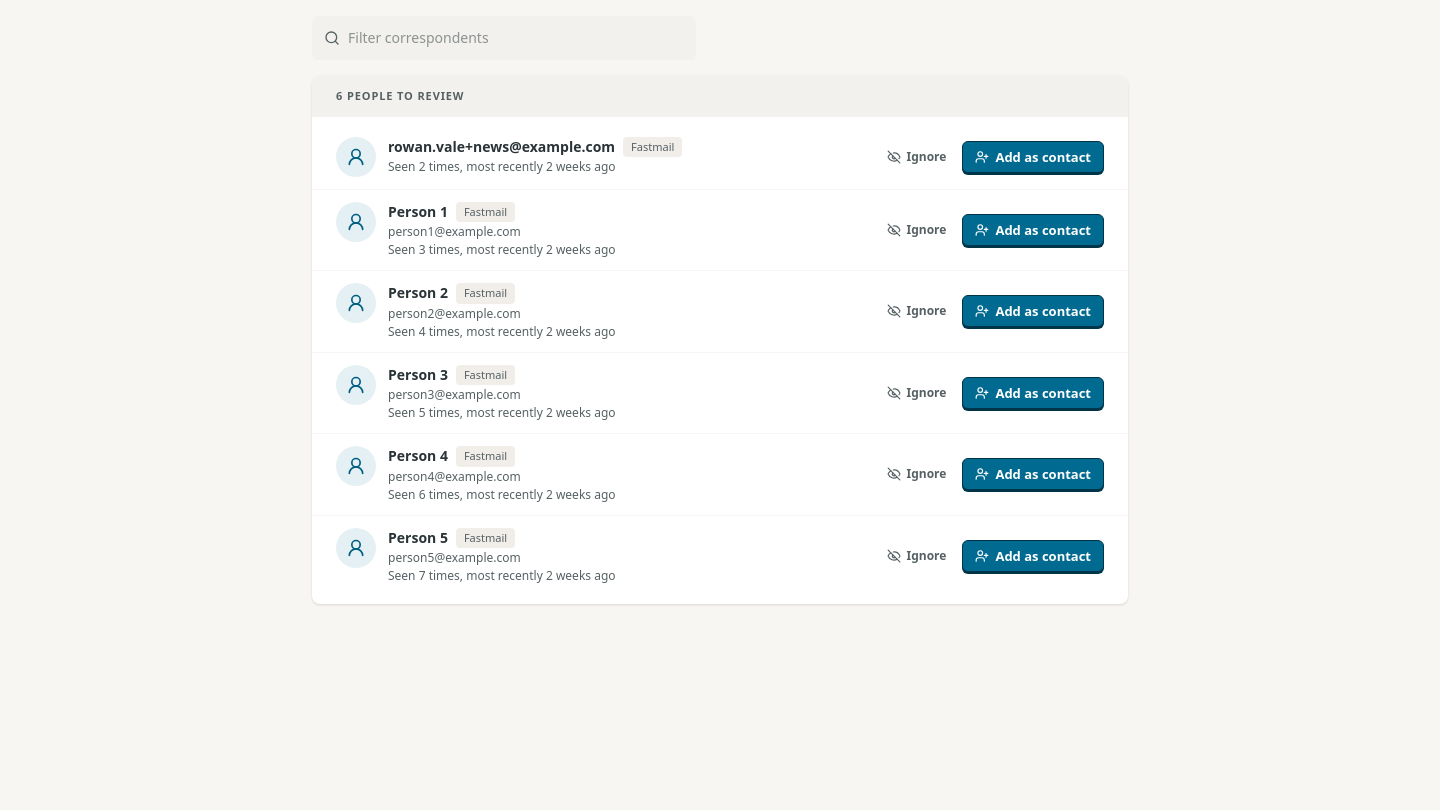
Connect settings › CorrespondentsView › shows filter box when >5 correspondents exist and prompts for name with NO_AUTOCORRECT when name is missing
Step 1. Type "rowan" into the field labelled "Filter correspondents" → (504, 38), box [312,16,696,60]
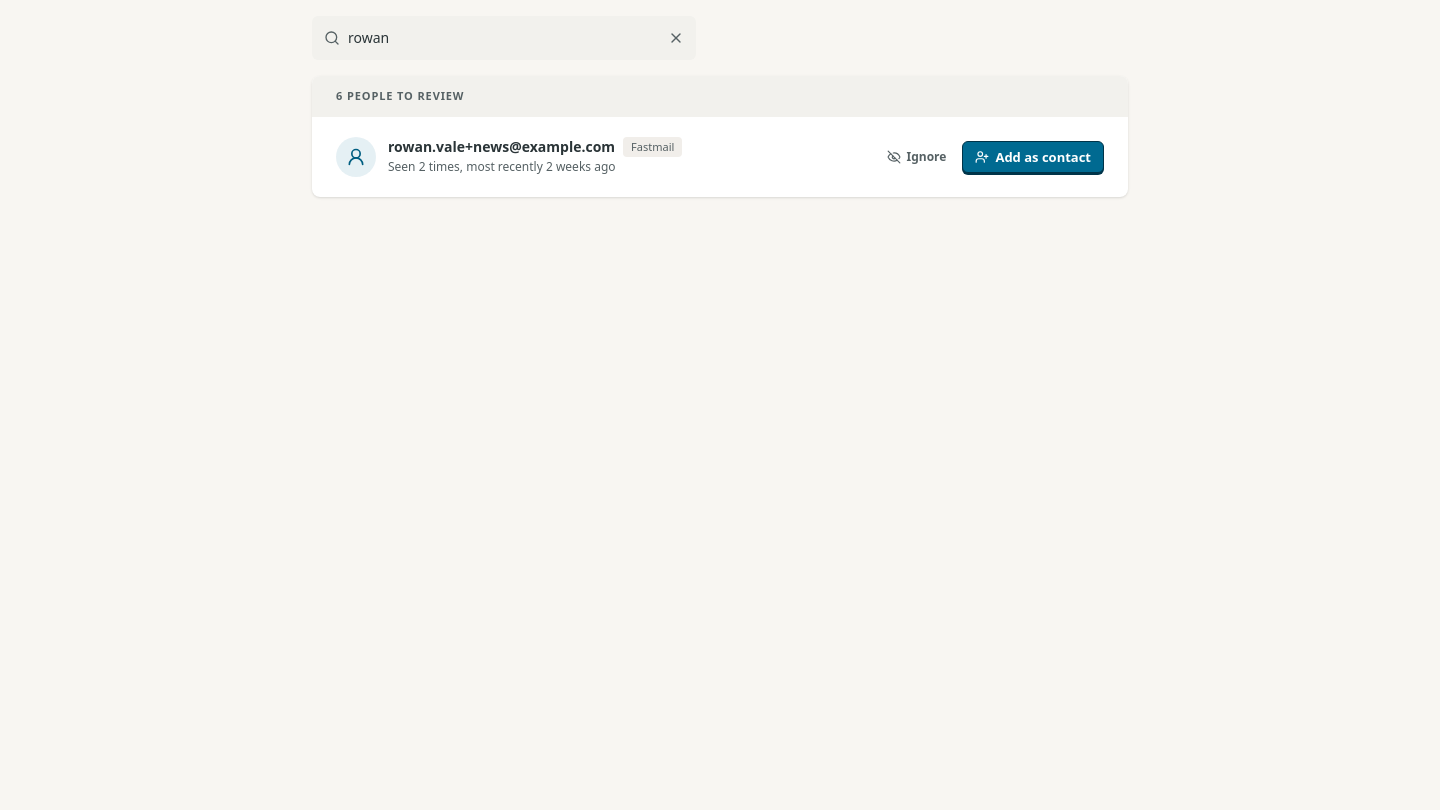
Check: the text "rowan.vale+news@example.com" is shown, box [388,137,615,157]
Check: the text "Person 1" is gone
// Clicking Add as contact on an address-only correspondent opens the name modal pre-filled
Step 2. Click the button "Add as contact" → click(1033, 156), box [962,140,1104,172]
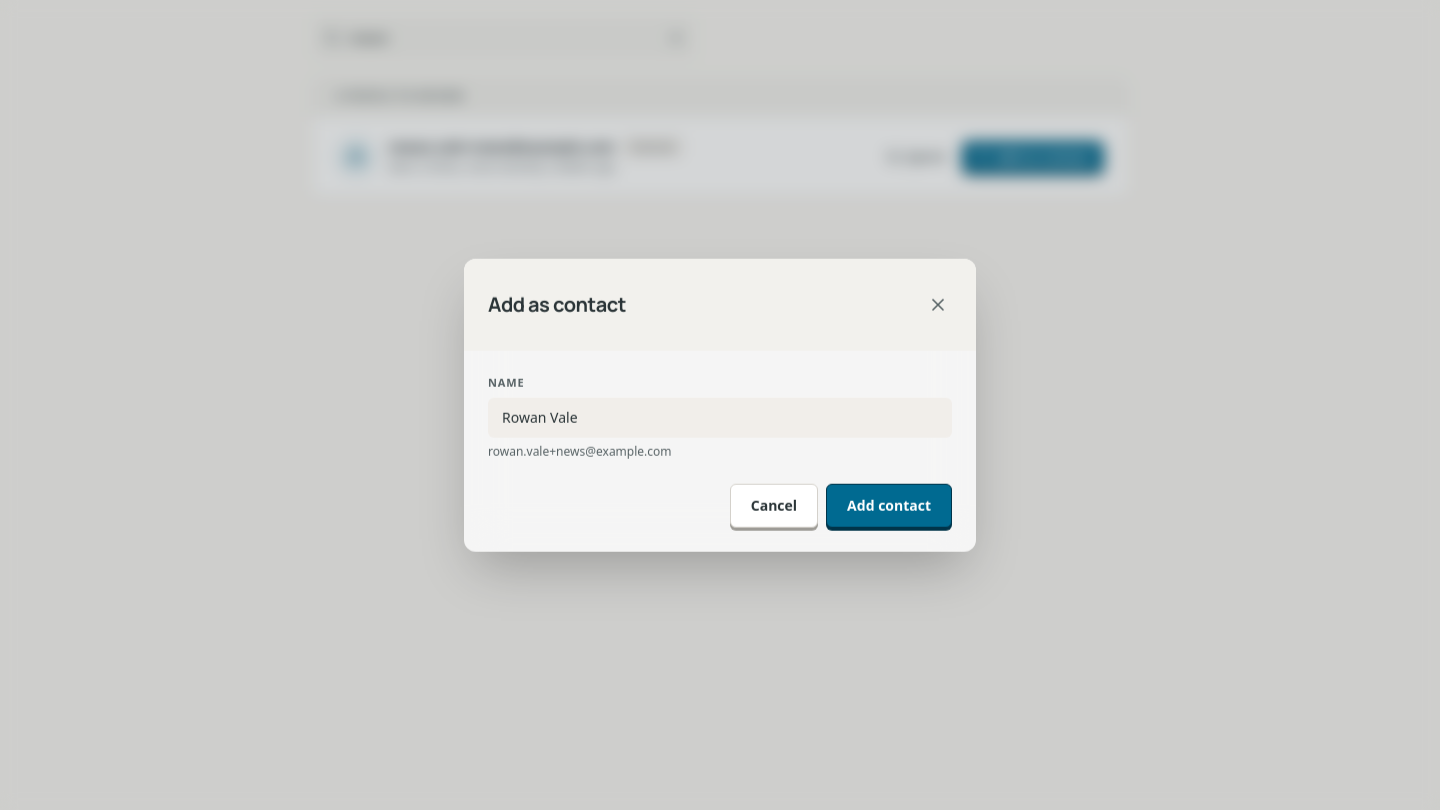
Check: the field labelled "Name" holds "Rowan Vale", box [488,397,952,437]
